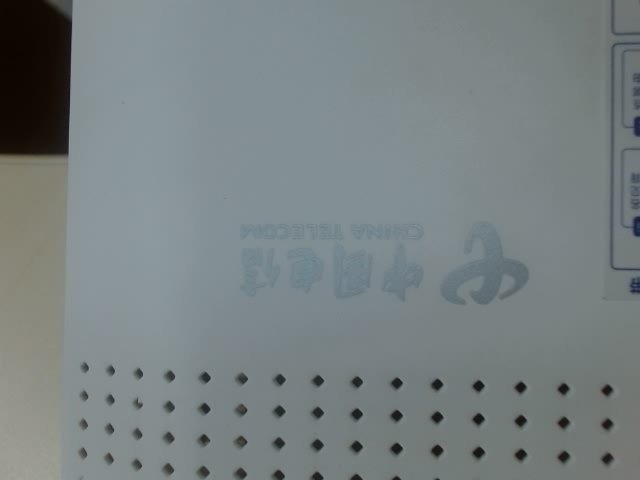ChinaTelecom1: (219, 199, 545, 309)
